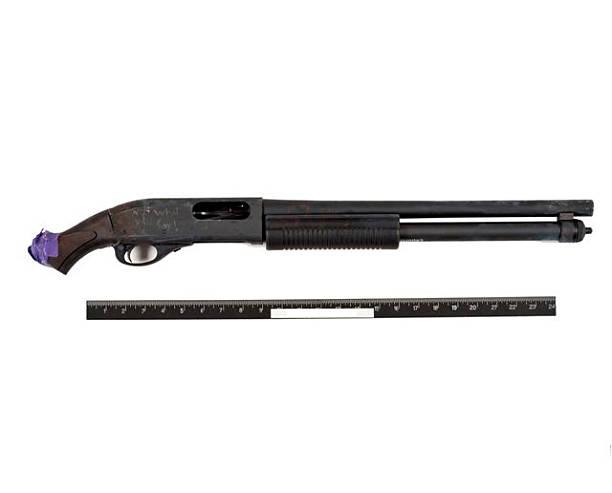shotgun: (26, 194, 596, 277)
